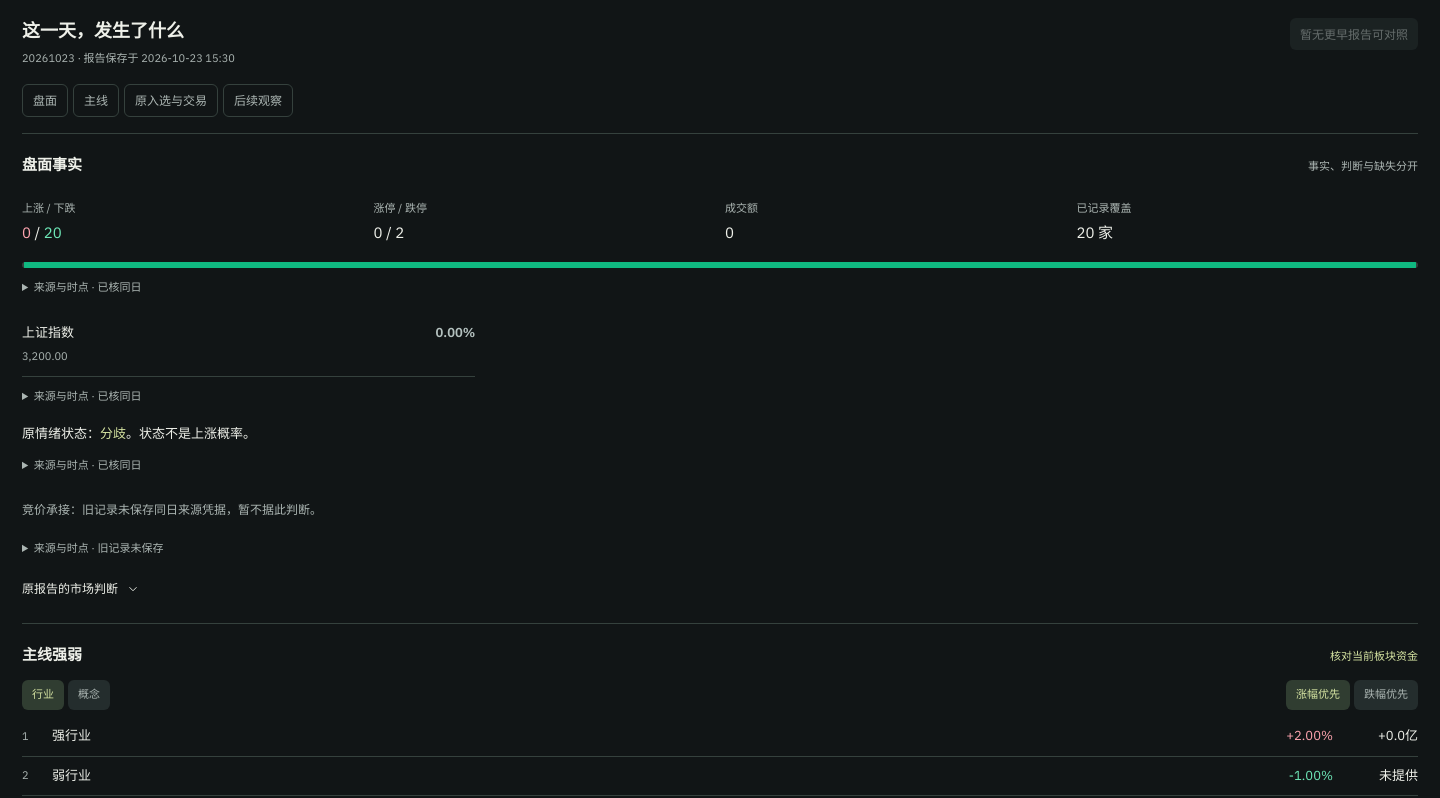
Test: market review dated evidence › sorts only saved sector rows, keeps missing returns last, and switches category
Click the button "跌幅优先" at (1386, 695), box [1354,680,1418,710]
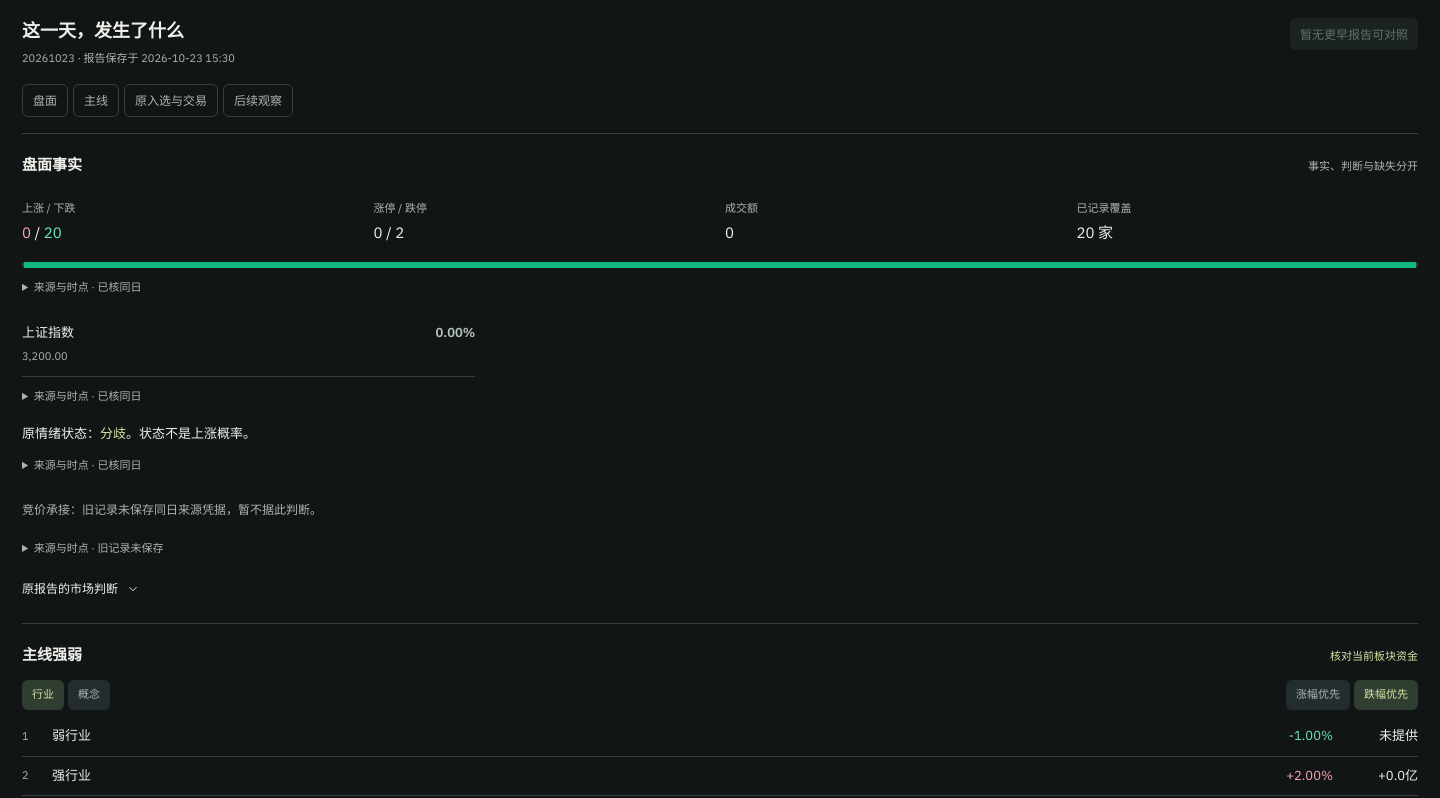
Expected: the list item "1 弱行业 -1.00% 未提供" is shown, [22,717,1418,757]
Click the button "概念" at (89, 695), box [68,680,110,710]
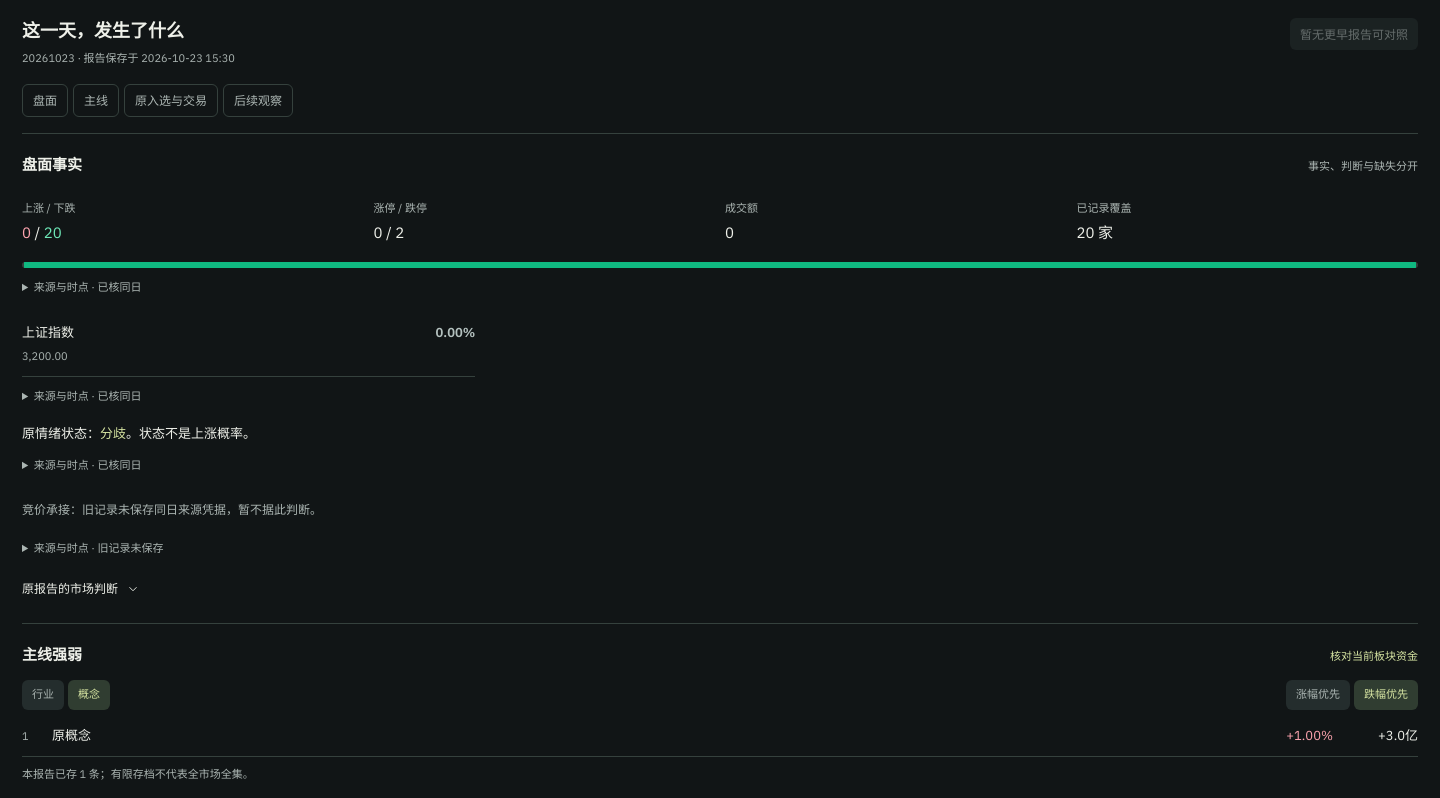
Expected: the list item shows "原概念", [52,727,91,744]
